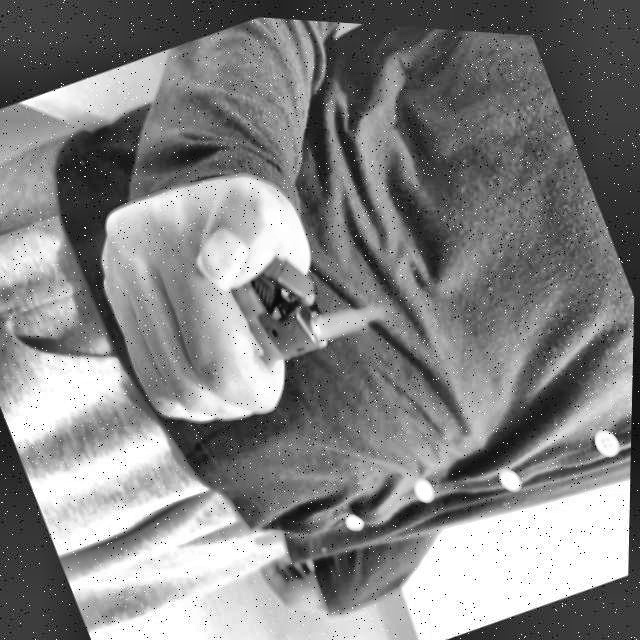Fire: (307, 282, 391, 342)
